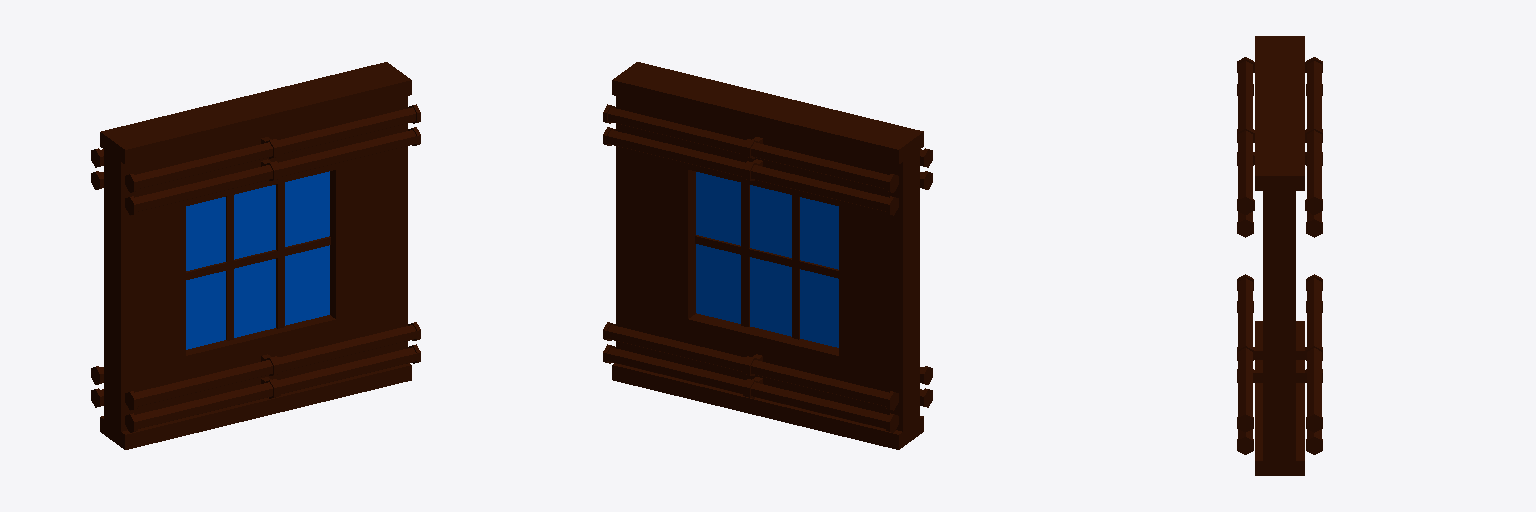
Rendered from 4x4_wall_window_pipe.obj.
3 renders of one model, left to right at view 1: azimuth 30°, elevation 25°; view 2: azimuth 150°, elevation 25°; view 3: azimuth 270°, elevation 25°, orthographic.
Visible parts, largest first — view 1: wall, pipes; view 2: wall, pipes; view 3: wall, pipes.
Part boxes in pixels (x1,y1,x2,y2): wall: (100,62,411,449); pipes: (91,104,420,432); wall: (612,62,923,449); pipes: (603,104,932,432); wall: (1255,36,1304,475); pipes: (1237,57,1322,454).
Size of the model in its own units: 4 by 4 by 1.05.